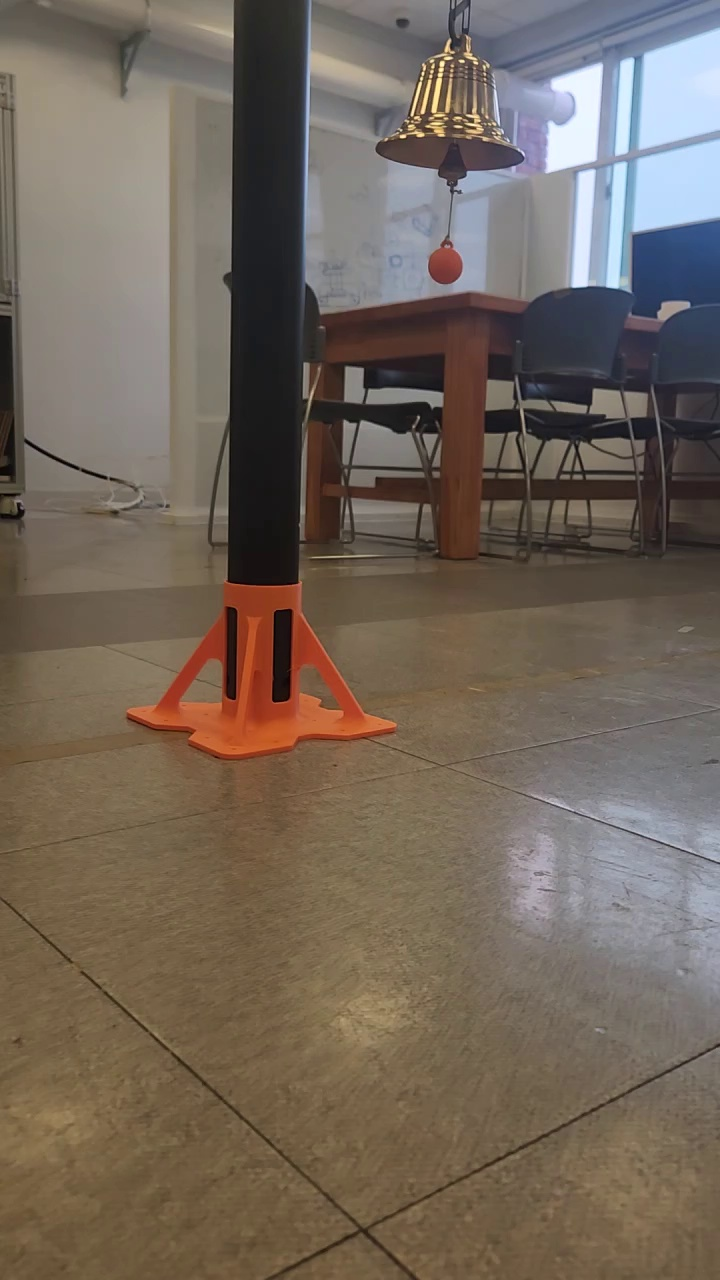bell: (373, 42, 532, 186)
pole: (224, 3, 311, 580)
